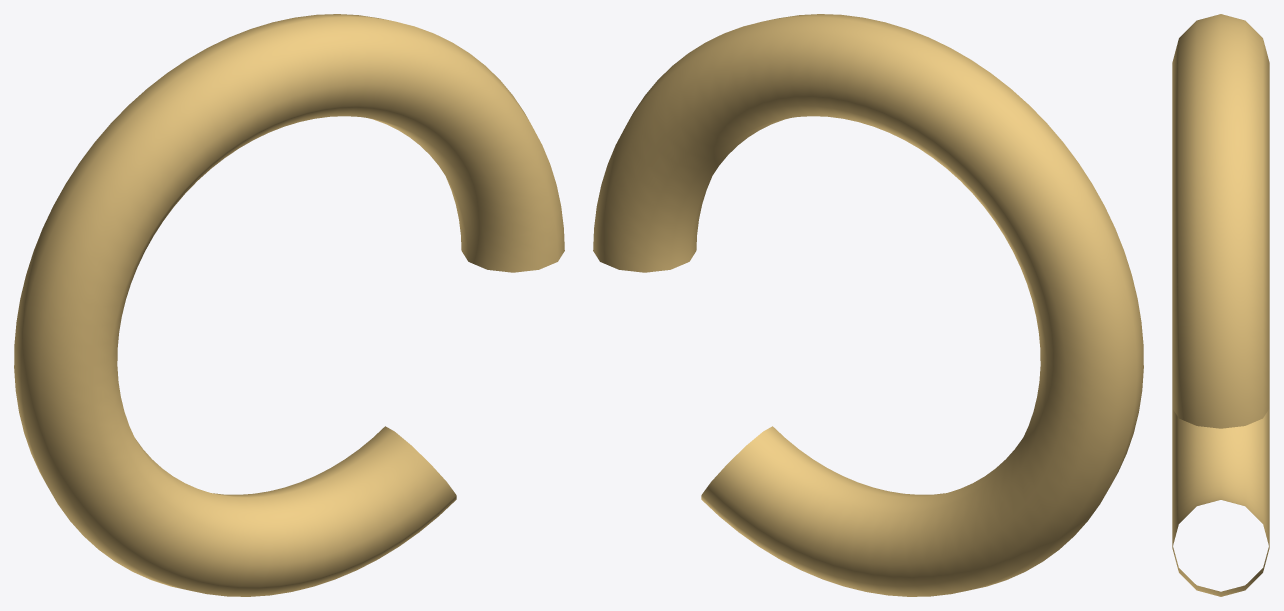
3 views of the same model, side by side, from view 1: azimuth 30°, elevation 25°; view 2: azimuth 150°, elevation 25°; view 3: azimuth 270°, elevation 25° (orthographic). The views are drawn at different scales.
Bounding box in the file's own units: 2.16 × 2.16 × 0.36.
